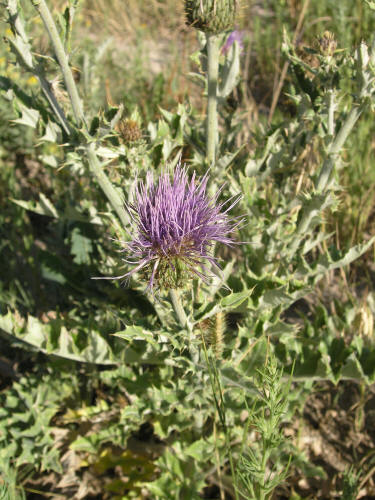thistle: (113, 168, 238, 298)
